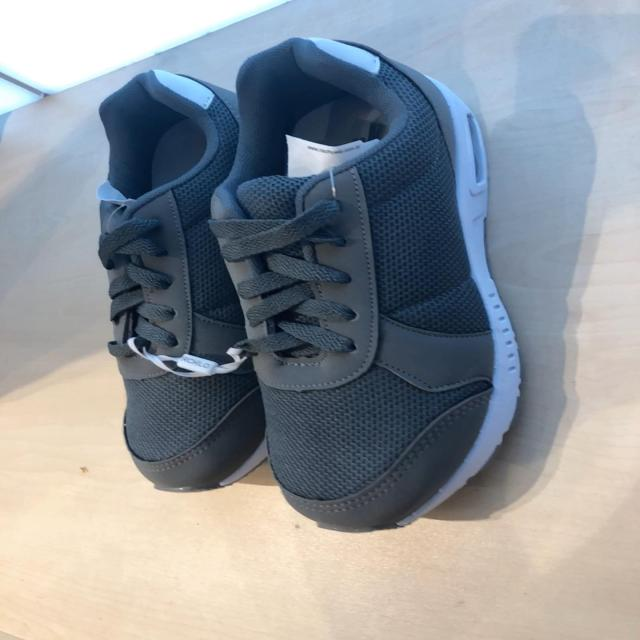shoe: (219, 36, 523, 544), (97, 72, 267, 494)
